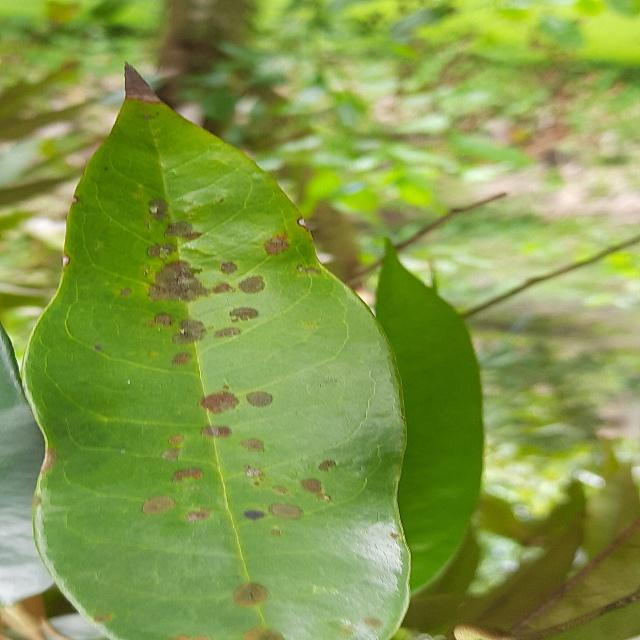Algal Leaf Spot: (17, 53, 418, 640)
